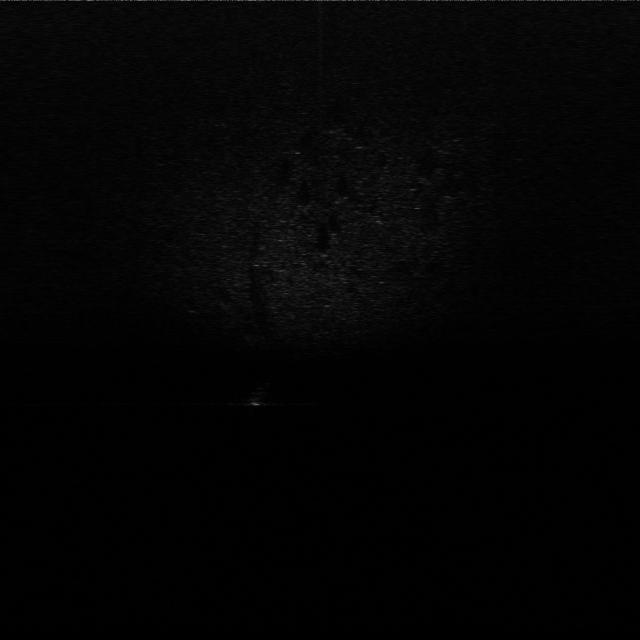human body: (242, 373, 278, 410)
